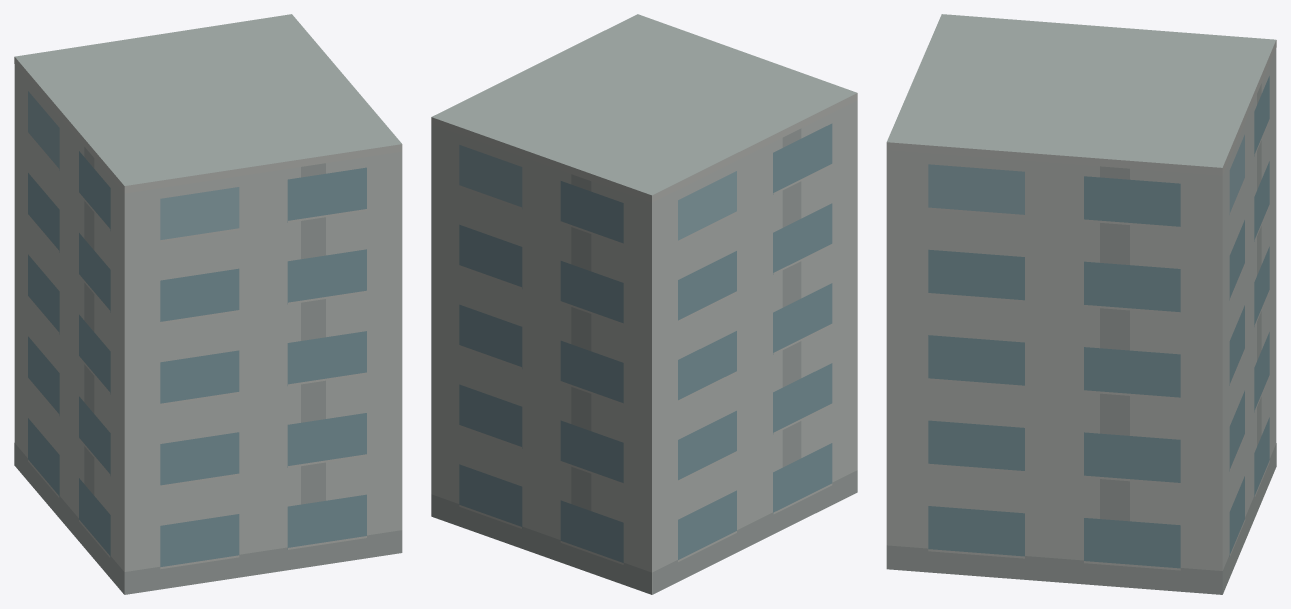
File: survey-upis-32526665.glb
The picture shows the model from 3 angles, left to right: view 1: azimuth 30°, elevation 25°; view 2: azimuth 150°, elevation 25°; view 3: azimuth 270°, elevation 25°; orthographic projection. The views are drawn at different scales.
Visible parts, largest first — view 1: survey-upis-32526665.tmp; view 2: survey-upis-32526665.tmp; view 3: survey-upis-32526665.tmp.
Part boxes in pixels (<box>): survey-upis-32526665.tmp: <box>14,14,402,594</box>; survey-upis-32526665.tmp: <box>431,14,857,594</box>; survey-upis-32526665.tmp: <box>886,14,1276,594</box>.
Bounding box in the file's own units: 10.21 × 13.2 × 10.93.
